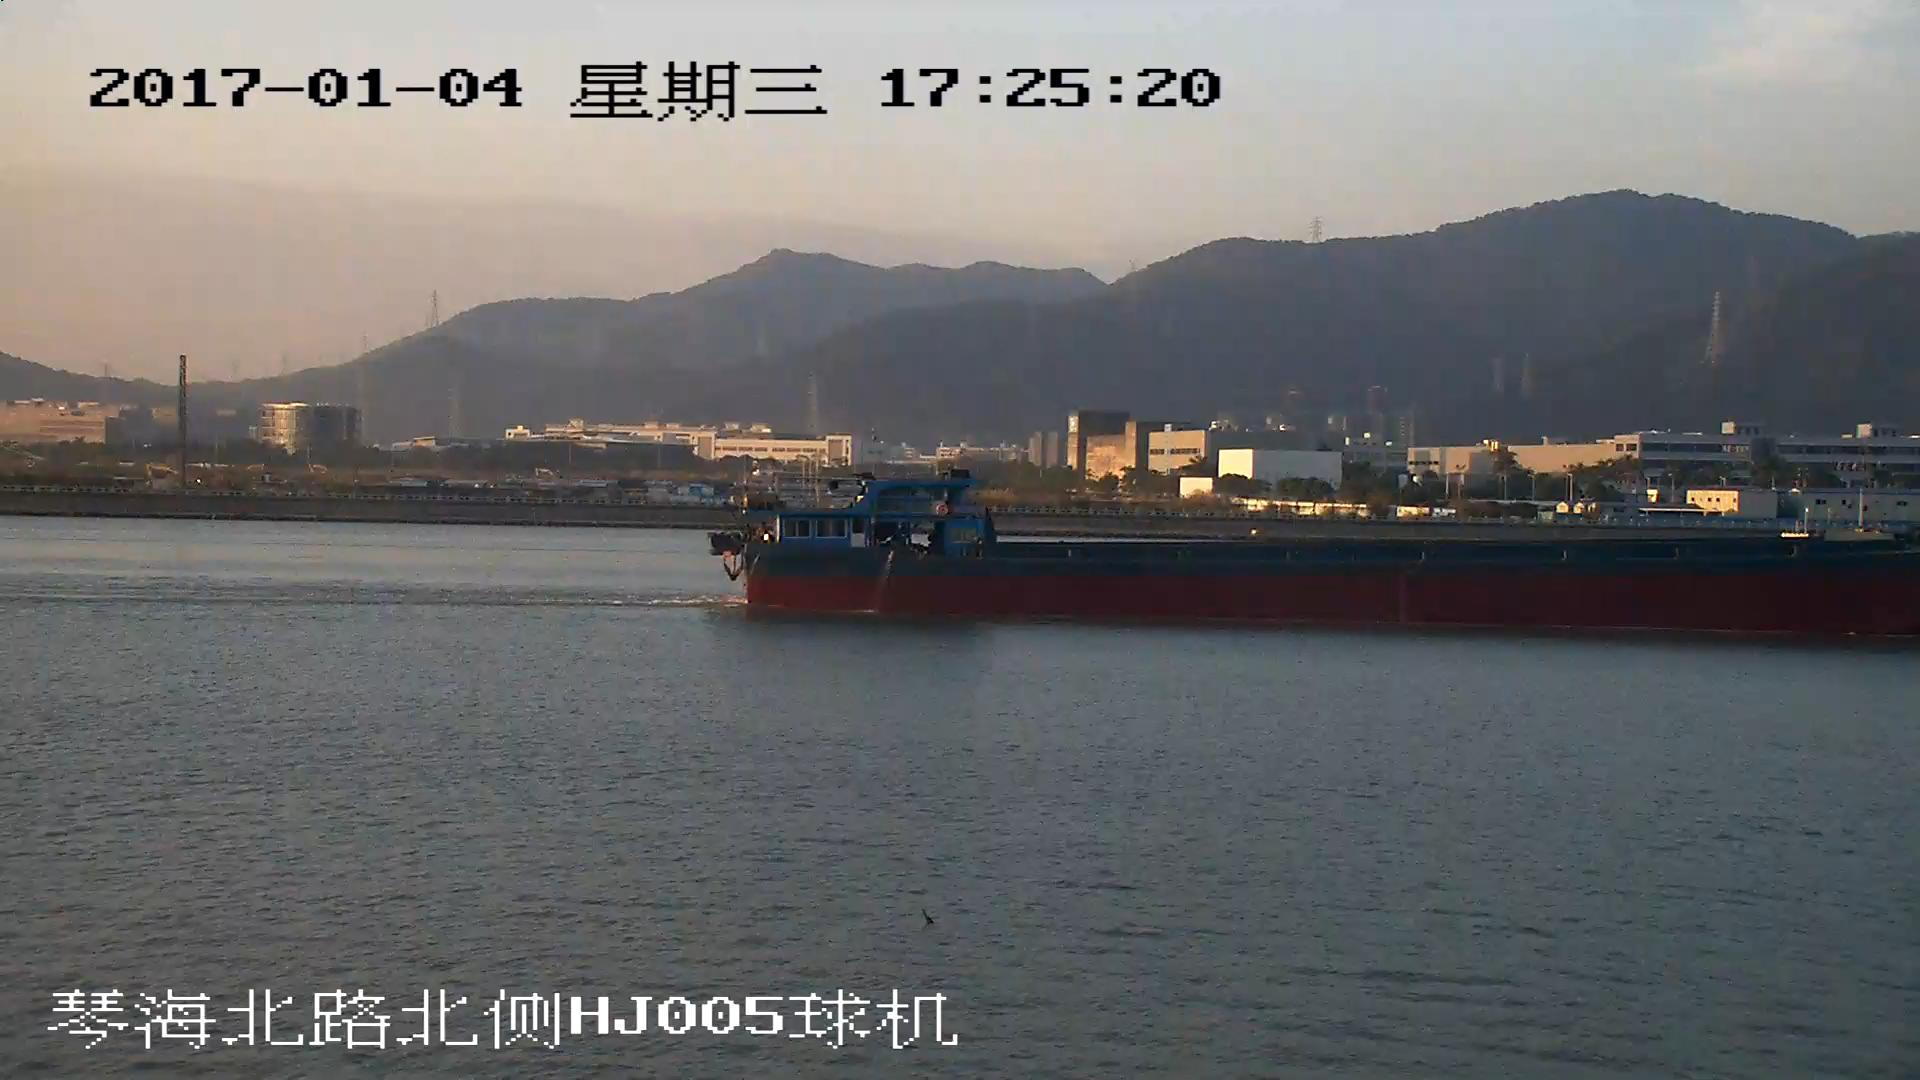Ship: (711, 475, 1920, 640)
